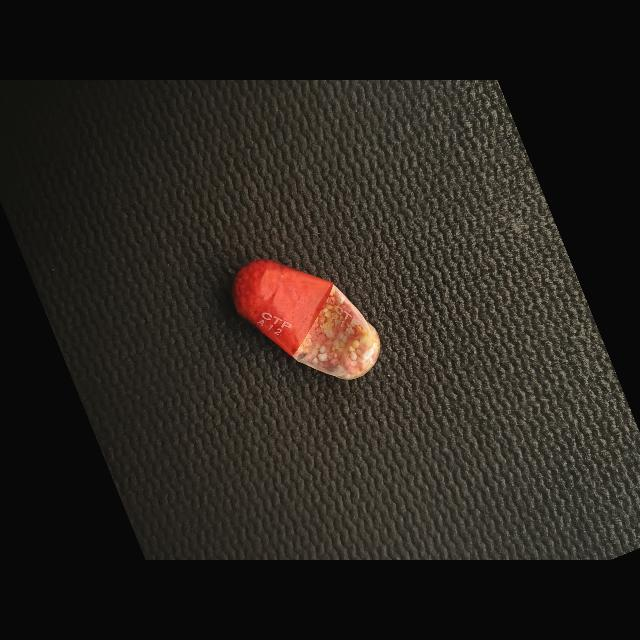Defective Capsule: (232, 259, 380, 380)
